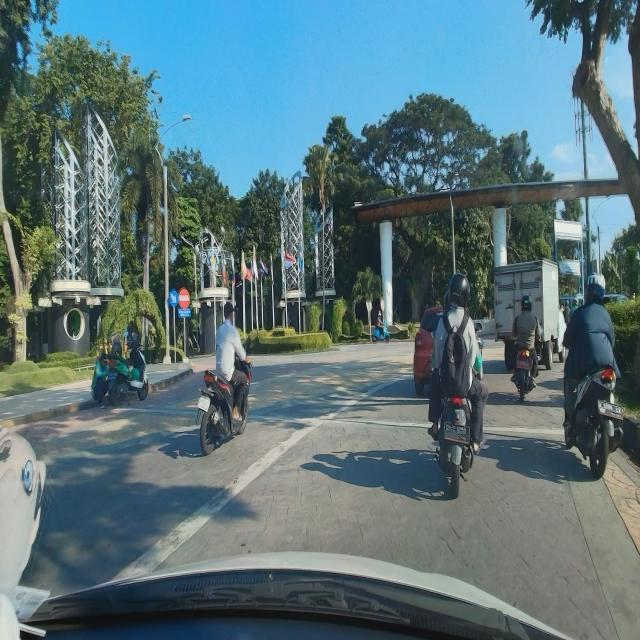car: (413, 300, 484, 398)
truck: (492, 258, 568, 373)
